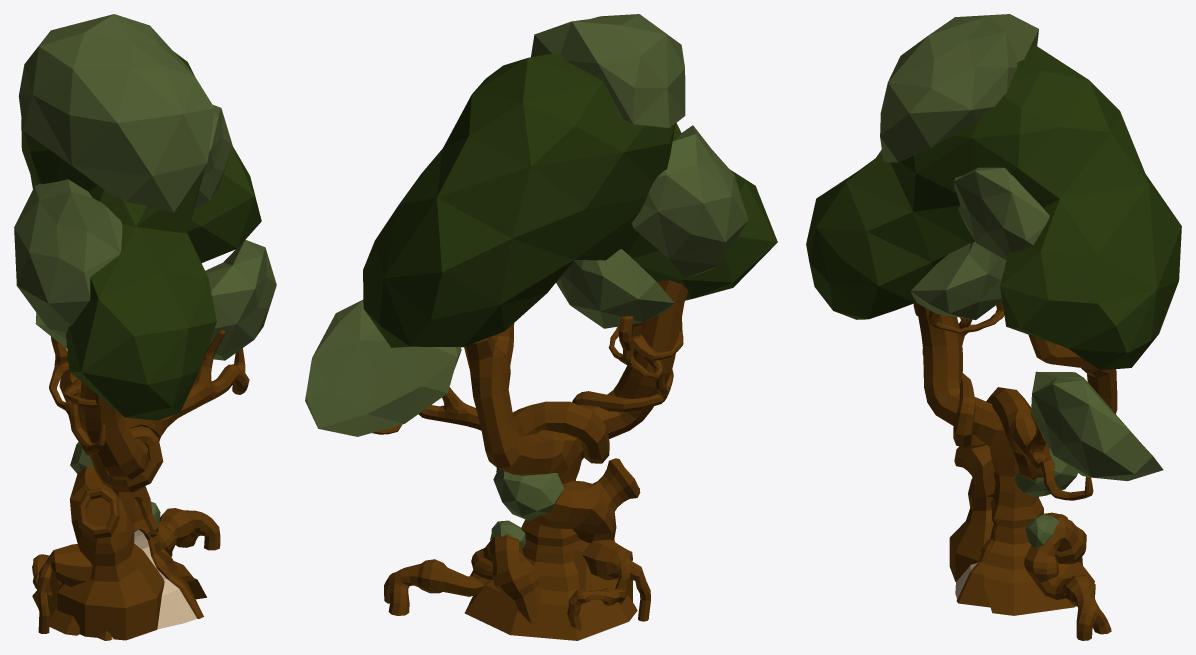
File: Tree_Large_2.glb
The picture shows the model from 3 angles, left to right: view 1: azimuth 30°, elevation 25°; view 2: azimuth 150°, elevation 25°; view 3: azimuth 270°, elevation 25°; orthographic projection. The views are drawn at different scales.
Parts seen in each view (by area): view 1: Tree_Large_2; view 2: Tree_Large_2; view 3: Tree_Large_2.
Part boxes in pixels (<box>): Tree_Large_2: <box>14,14,276,640</box>; Tree_Large_2: <box>305,14,777,640</box>; Tree_Large_2: <box>806,14,1181,640</box>.
Size of the model in its own units: 5.99 by 10.05 by 6.3.
Materials: 1 (1 with a texture image).
